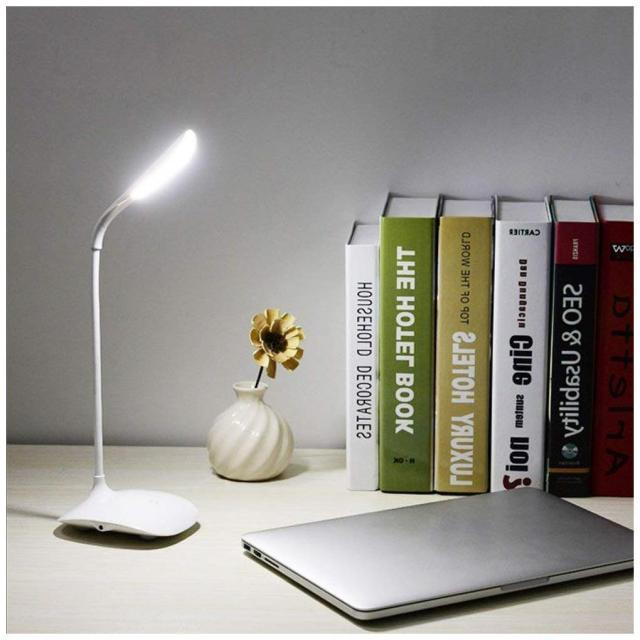lamp: (54, 121, 204, 550)
laptop: (240, 489, 633, 622)
